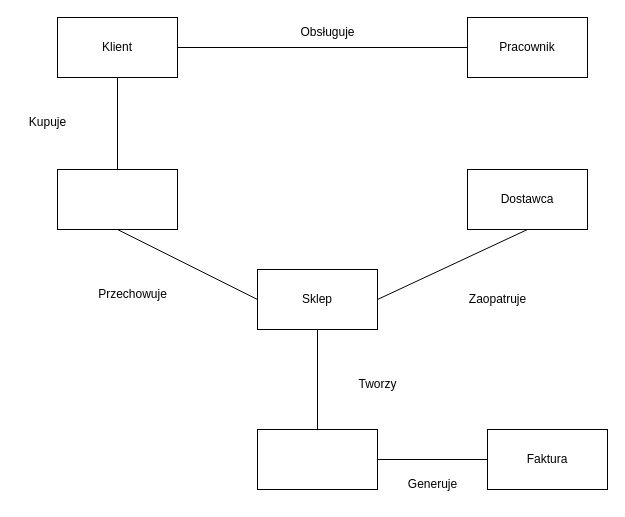
This 625x517 diagram has some shape labels left out. Here are the shapes that lost their labels. From the top down, the box of each, then its label:
(56, 168, 178, 230): Zwierzę
(256, 428, 378, 490): Zamówienie
